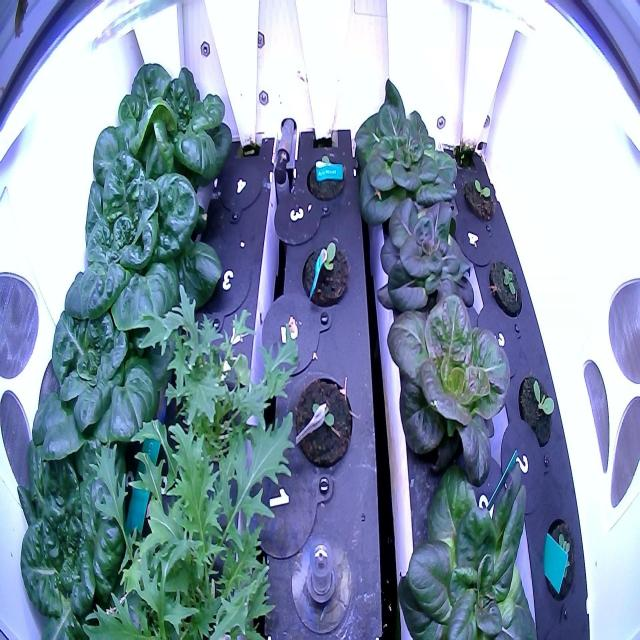Ready: (46, 124, 230, 350), (23, 274, 200, 485), (86, 47, 234, 236)
empty_pod: (195, 240, 254, 334), (218, 156, 264, 225)
germination: (290, 369, 355, 470), (298, 237, 352, 310), (540, 510, 580, 608), (514, 369, 558, 457), (484, 253, 525, 323), (304, 150, 347, 208), (459, 172, 498, 225)
pod: (391, 445, 544, 640), (381, 286, 516, 493), (346, 68, 464, 232), (368, 184, 482, 335)
young: (8, 409, 144, 640)
